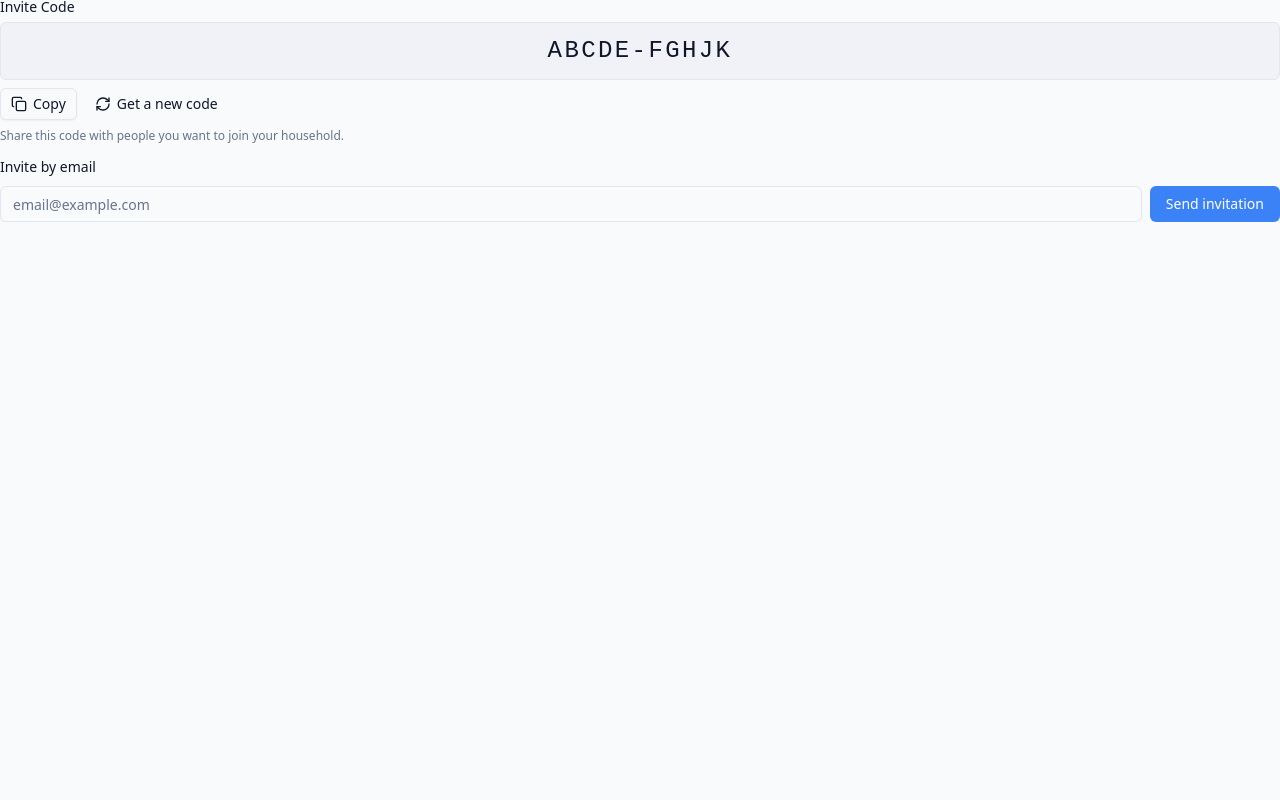
it: InviteForm invite code card › shows the server error verbatim when rotation fails
Click the button "Get a new code": click(156, 104) x1=85 y1=88 x2=228 y2=120
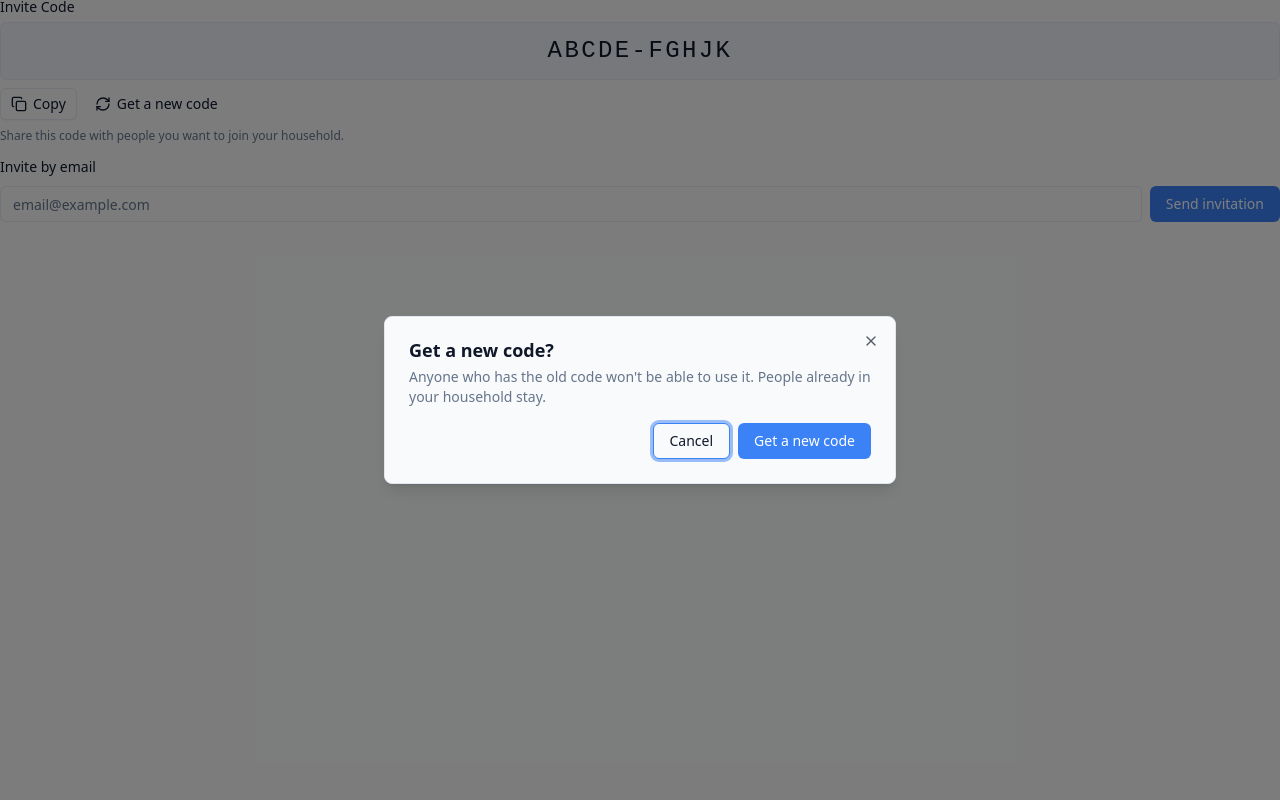
Click the button "Get a new code": click(805, 441) x1=738 y1=423 x2=871 y2=459
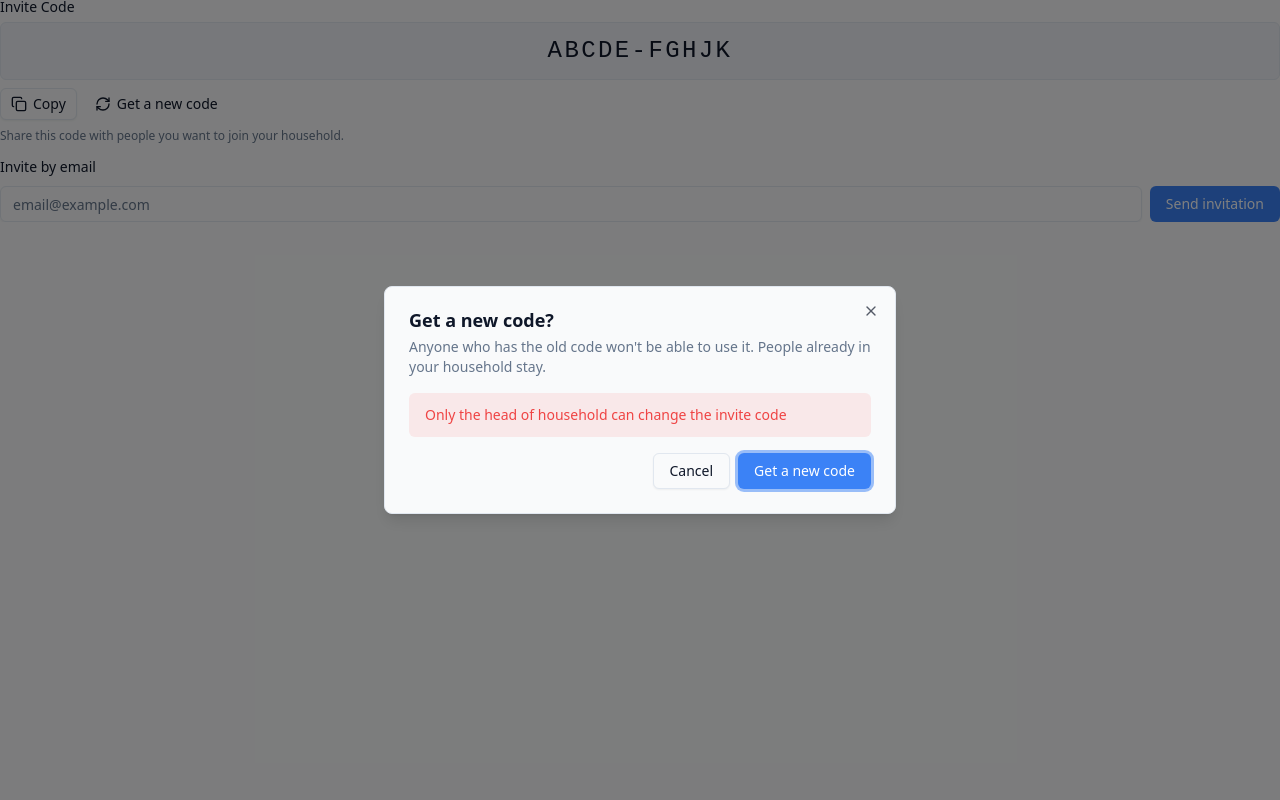
expect the text "Only the head of household can change the invite code" is shown: met, box x1=409 y1=393 x2=871 y2=437
